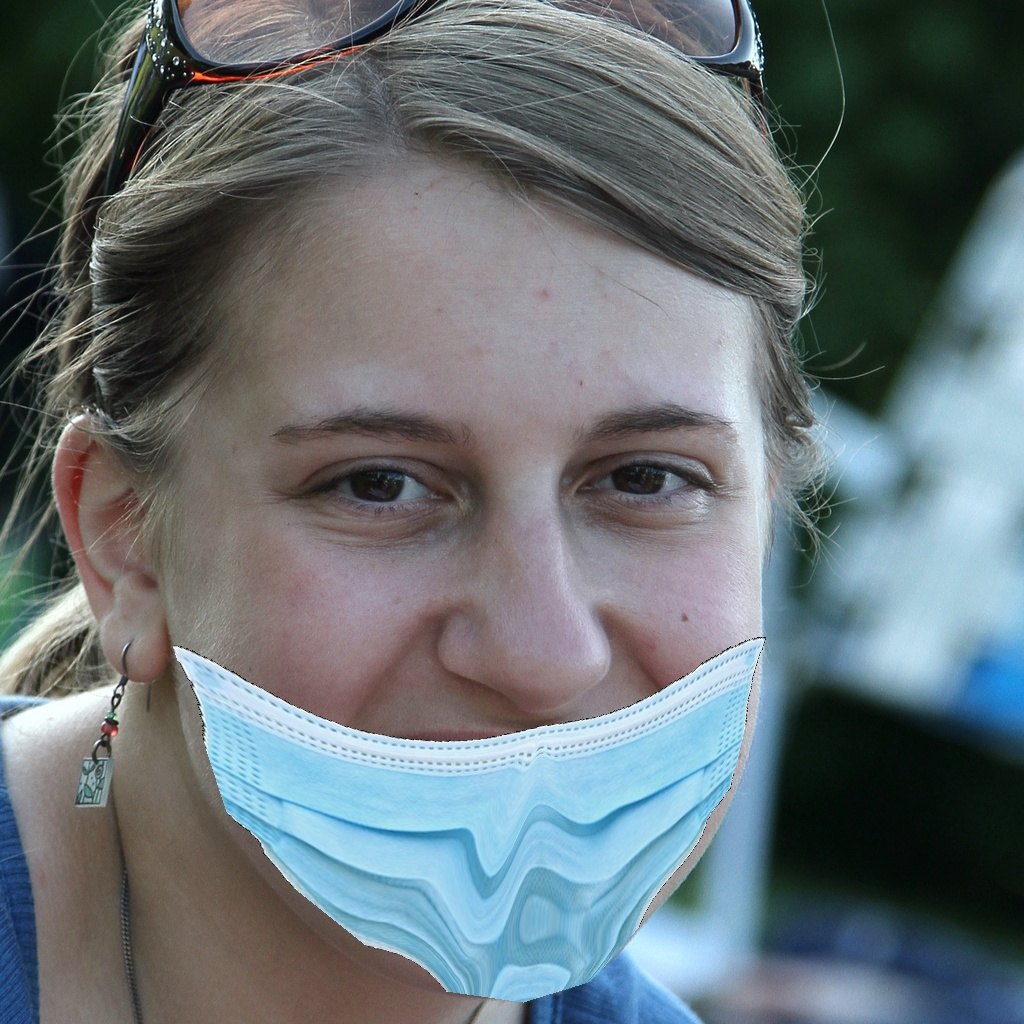mascarilla_mal_puesta: (44, 308, 782, 1008)
